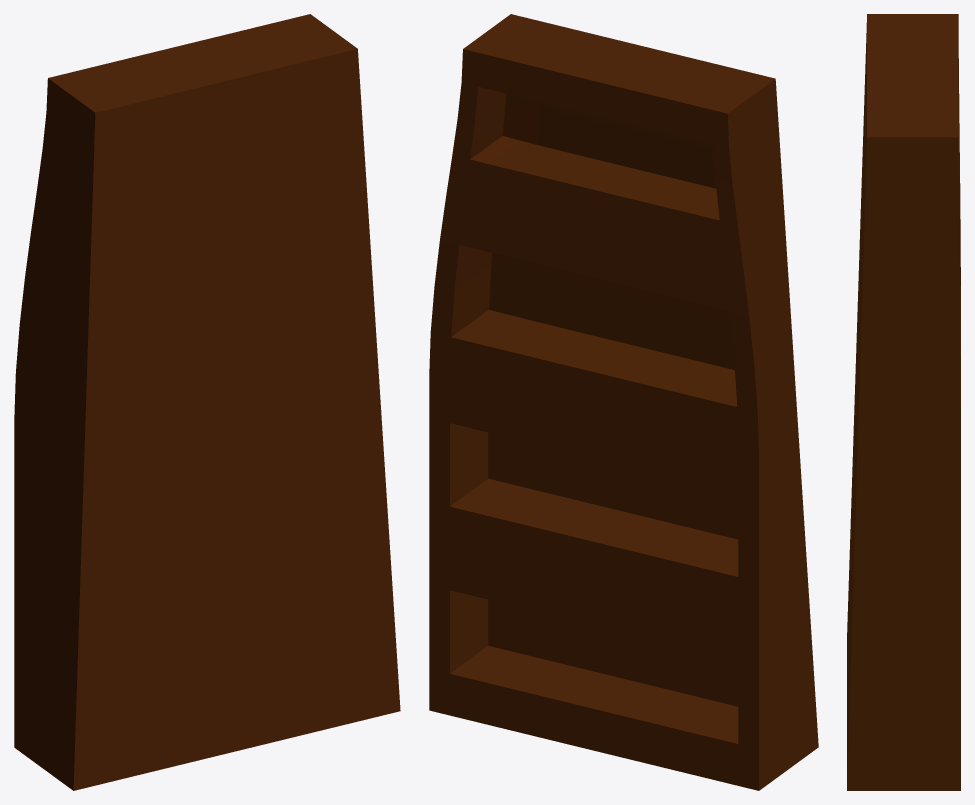
File: Bookcase.fbx
The picture shows the model from 3 angles, left to right: view 1: azimuth 30°, elevation 25°; view 2: azimuth 150°, elevation 25°; view 3: azimuth 270°, elevation 25°; orthographic projection. The views are drawn at different scales.
Visible parts, largest first — view 1: Cube; view 2: Cube, Cube.001, Cube.003, Cube.002, Cube.004, Cube.005, Cube.006; view 3: Cube, Cube.001.
Part boxes in pixels (x1,y1,x2,y2): Cube: (14,14,400,790); Cube: (429,14,818,790); Cube.001: (459,136,729,310); Cube.003: (450,479,738,652); Cube.002: (450,310,738,492); Cube.004: (450,478,738,660); Cube.005: (450,310,738,493); Cube.006: (461,144,727,308); Cube: (847,14,960,790); Cube.001: (958,121,960,316).
Size of the model in its own units: 103 by 200 by 32.36.
